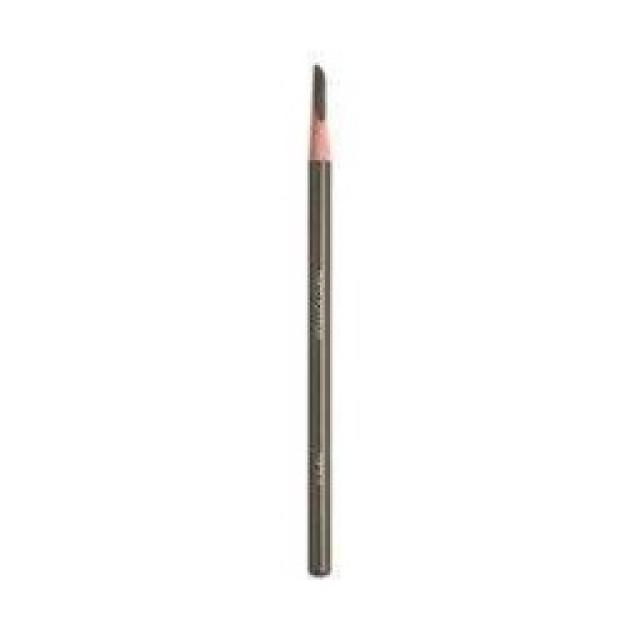pencil: (300, 58, 338, 578)
